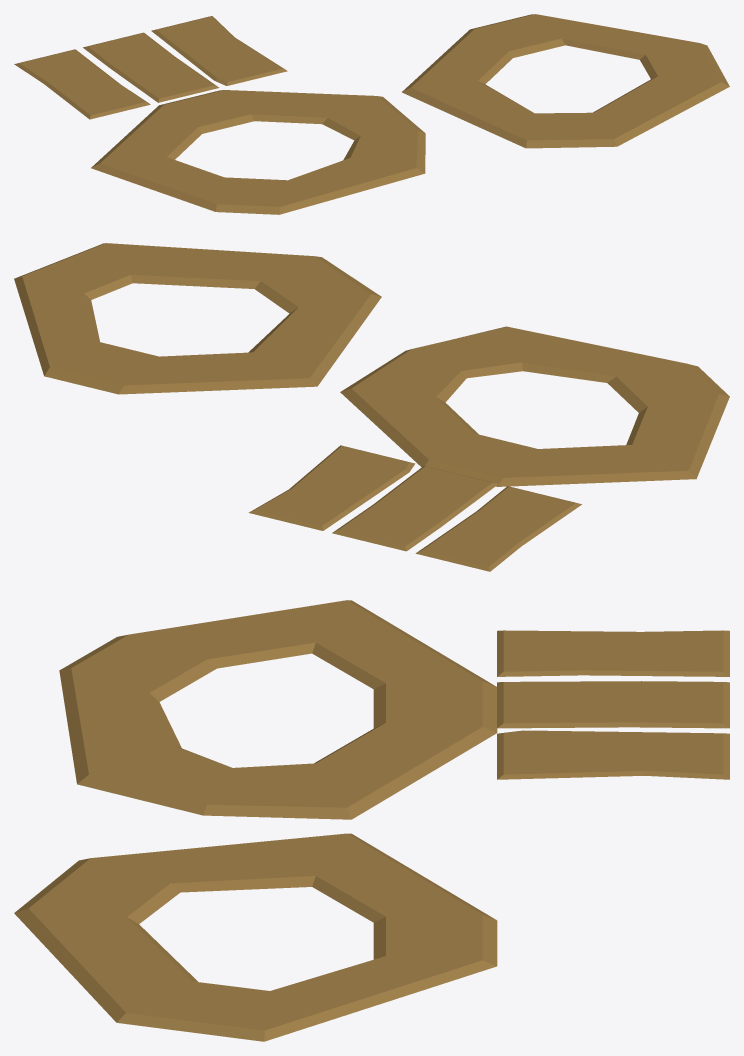
The model's file is Roads.fbx.
The picture shows the model from 3 angles, top to bottom: view 1: azimuth 30°, elevation 25°; view 2: azimuth 150°, elevation 25°; view 3: azimuth 270°, elevation 25°; orthographic projection. The views are drawn at different scales.
Visible parts, largest first — view 1: Cylinder.057, Cylinder.058, Road2, Road3, Road1; view 2: Cylinder.057, Cylinder.058, Road2, Road3, Road1; view 3: Cylinder.057, Cylinder.058, Road2, Road3, Road1.
Boxes of the visible parts, <box> form: Cylinder.057: <box>91,90,425,214</box>; Cylinder.058: <box>402,14,729,148</box>; Road2: <box>83,32,219,102</box>; Road3: <box>151,16,287,85</box>; Road1: <box>14,49,150,119</box>; Cylinder.057: <box>340,326,729,486</box>; Cylinder.058: <box>14,243,381,394</box>; Road2: <box>332,465,498,551</box>; Road3: <box>248,445,415,530</box>; Road1: <box>415,486,581,571</box>; Cylinder.057: <box>59,600,497,819</box>; Cylinder.058: <box>14,833,497,1041</box>; Road2: <box>497,681,729,728</box>; Road3: <box>497,730,729,779</box>; Road1: <box>497,630,729,676</box>.
Size of the model in its own units: 9654 by 70.29 by 6615.
